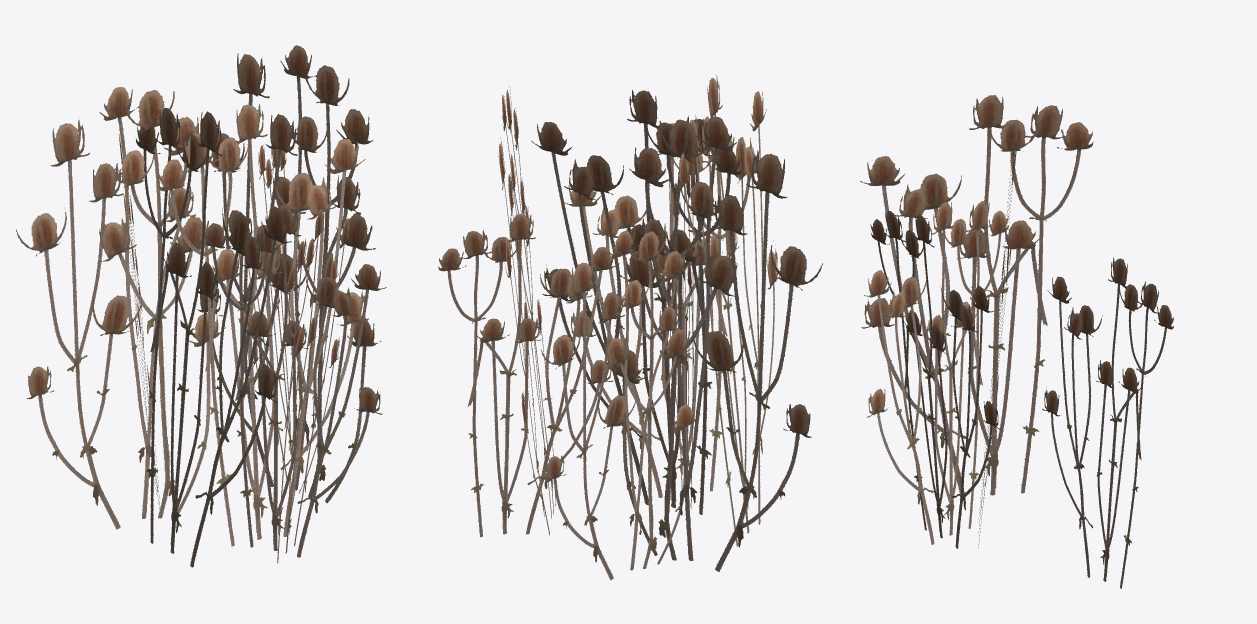
Rendered from Teasel.fbx.
3 views of the same model, side by side, from view 1: azimuth 30°, elevation 25°; view 2: azimuth 150°, elevation 25°; view 3: azimuth 270°, elevation 25° (orthographic). The views are drawn at different scales.
Visible parts, largest first — view 1: Teasel; view 2: Teasel; view 3: Teasel.
Boxes of the visible parts, x1,y1,x2,y2 form: Teasel: (16,45,386,567); Teasel: (438,74,822,580); Teasel: (860,95,1173,588).
Size of the model in its own units: 24.83 by 31.14 by 25.19.
